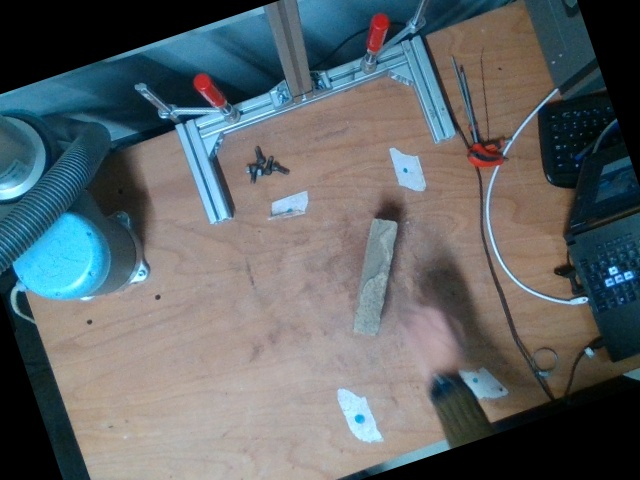brick-side: (354, 220, 396, 333)
